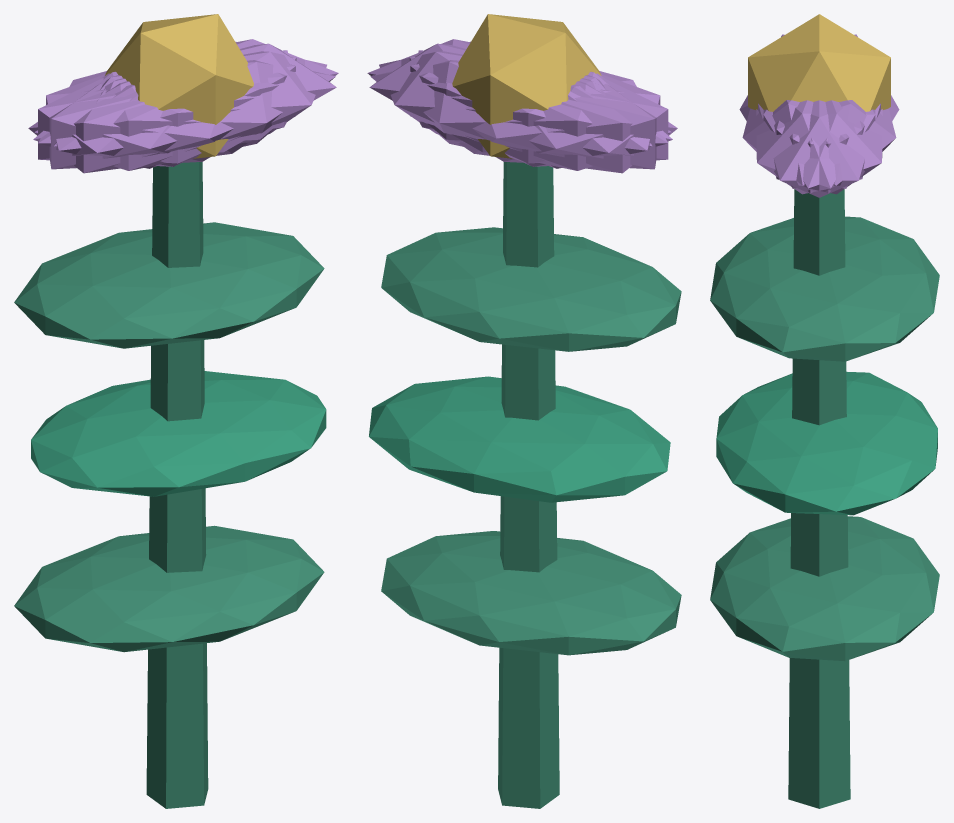
The model's file is lantana-horrida.glb.
The picture shows the model from 3 angles, left to right: view 1: azimuth 30°, elevation 25°; view 2: azimuth 150°, elevation 25°; view 3: azimuth 270°, elevation 25°; orthographic projection.
Visible parts, largest first — view 1: leaf2, leaf0, leaf1, stem, center, petal1, petal6, petal2, petal5, petal7, petal0, petal4 (+2 smaller); view 2: leaf1, leaf2, leaf0, stem, center, petal8, petal3, petal7, petal4, petal2, petal0, petal5 (+2 smaller); view 3: leaf2, leaf1, leaf0, stem, center, petal0, petal4, petal5, petal8, petal1.
Part boxes in pixels (x1=…): leaf2: x1=14, y1=222, x2=324, y2=348; leaf0: x1=14, y1=525, x2=324, y2=652; leaf1: x1=31, y1=371, x2=326, y2=496; stem: x1=146, y1=162, x2=208, y2=808; center: x1=105, y1=14, x2=253, y2=158; petal1: x1=33, y1=60, x2=335, y2=170; petal6: x1=28, y1=73, x2=247, y2=173; petal2: x1=49, y1=50, x2=287, y2=169; petal5: x1=53, y1=51, x2=326, y2=163; petal7: x1=38, y1=56, x2=296, y2=166; petal0: x1=104, y1=43, x2=336, y2=152; petal4: x1=34, y1=39, x2=338, y2=143; leaf1: x1=369, y1=376, x2=670, y2=502; leaf2: x1=381, y1=227, x2=681, y2=351; leaf0: x1=381, y1=531, x2=681, y2=655; stem: x1=498, y1=162, x2=559, y2=808; center: x1=452, y1=14, x2=601, y2=158; petal8: x1=370, y1=60, x2=672, y2=170; petal3: x1=458, y1=73, x2=677, y2=173; petal7: x1=418, y1=50, x2=656, y2=169; petal4: x1=379, y1=51, x2=652, y2=163; petal2: x1=409, y1=56, x2=668, y2=166; petal0: x1=369, y1=43, x2=601, y2=152; petal5: x1=367, y1=39, x2=671, y2=143; leaf2: x1=710, y1=216, x2=939, y2=361; leaf1: x1=716, y1=371, x2=937, y2=515; leaf0: x1=710, y1=516, x2=939, y2=661; stem: x1=788, y1=189, x2=850, y2=808; center: x1=748, y1=14, x2=890, y2=111; petal0: x1=758, y1=100, x2=880, y2=197; petal4: x1=763, y1=100, x2=882, y2=194; petal5: x1=756, y1=100, x2=875, y2=194; petal8: x1=774, y1=100, x2=896, y2=185; petal1: x1=742, y1=100, x2=864, y2=185.
Bounding box in the file's own units: 0.1452 × 0.3599 × 0.0983.
